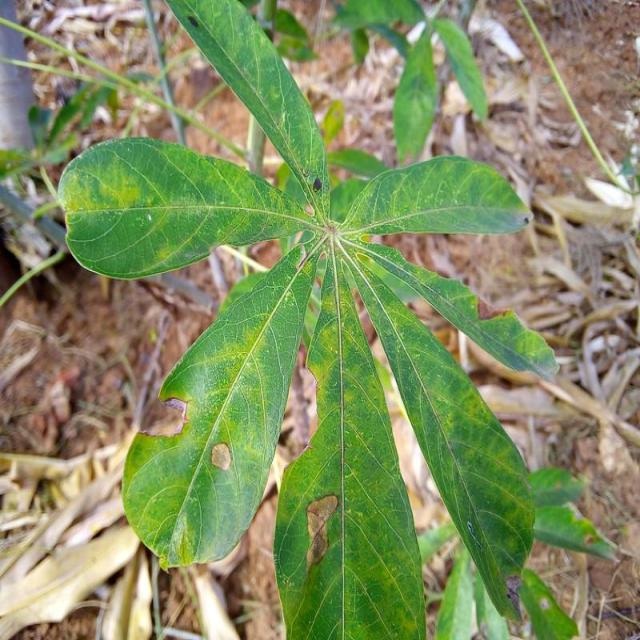cassava leaf: (56, 0, 558, 637), (120, 239, 319, 571), (272, 257, 426, 638), (56, 134, 318, 280)
